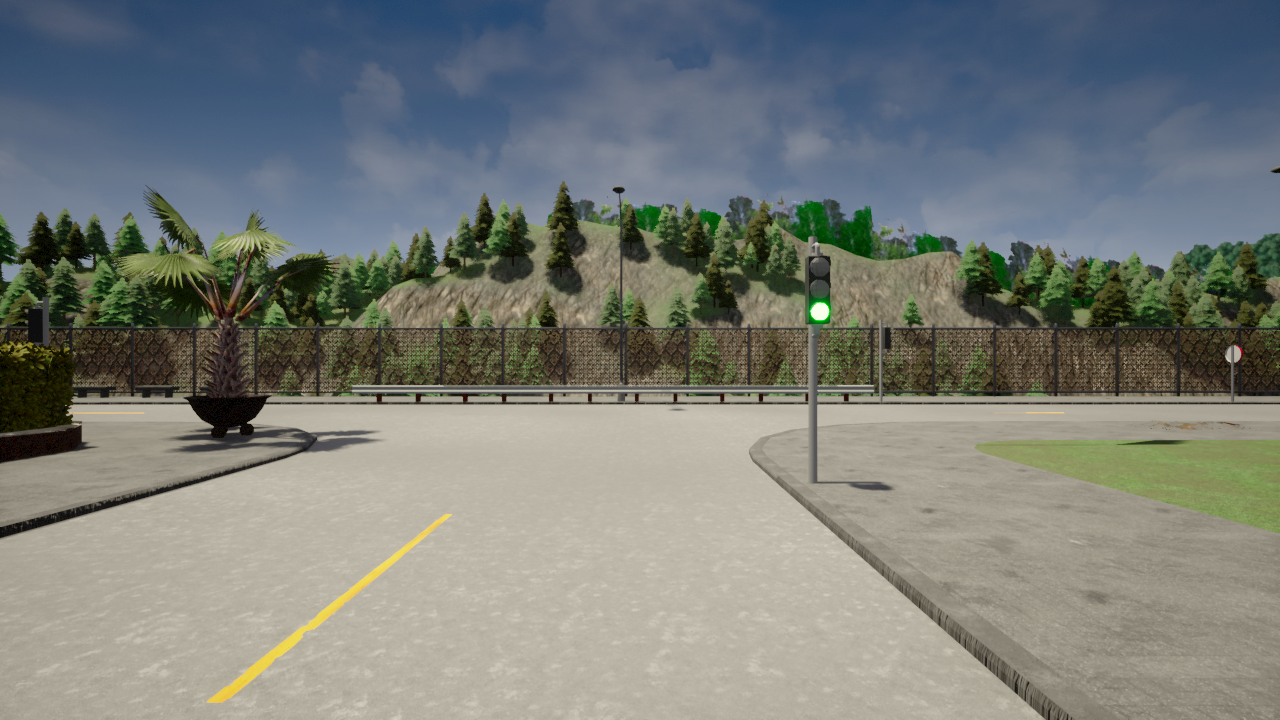green: (803, 253, 834, 327)
